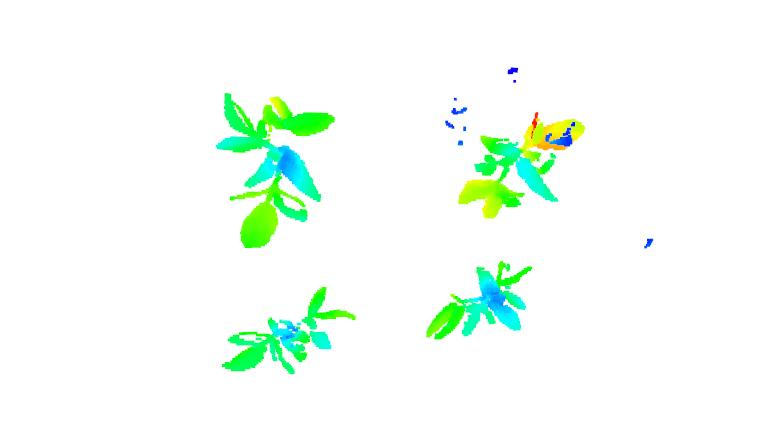mungbean: (211, 85, 338, 250), (452, 109, 596, 223), (213, 279, 369, 377), (418, 257, 538, 342)
